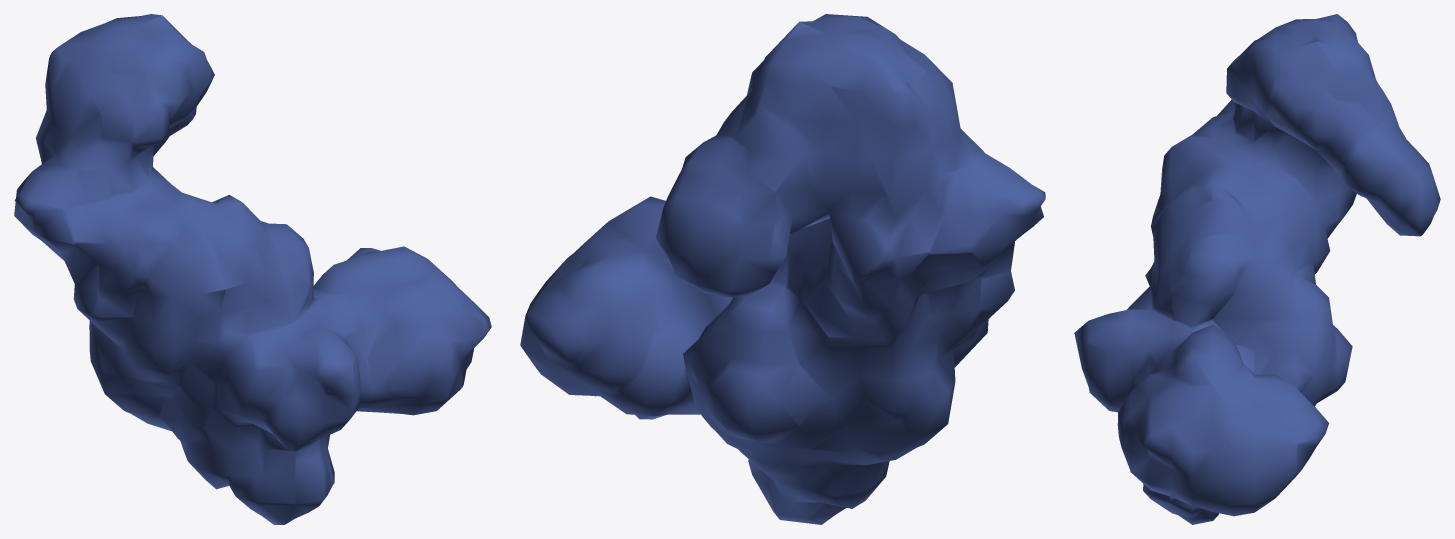
File: onemer1GAX_prot.fbx
3 renders of one model, left to right at view 1: azimuth 30°, elevation 25°; view 2: azimuth 150°, elevation 25°; view 3: azimuth 270°, elevation 25°, orthographic. The views are drawn at different scales.
Parts seen in each view (by area): view 1: CoarseMS_1gaxBioSimp_prot; view 2: CoarseMS_1gaxBioSimp_prot; view 3: CoarseMS_1gaxBioSimp_prot.
Part boxes in pixels (bbox=[...]): CoarseMS_1gaxBioSimp_prot: bbox=[14, 14, 491, 524]; CoarseMS_1gaxBioSimp_prot: bbox=[520, 14, 1045, 524]; CoarseMS_1gaxBioSimp_prot: bbox=[1074, 14, 1440, 524].
Bounding box in the file's own units: 110 × 117 × 85.44.
